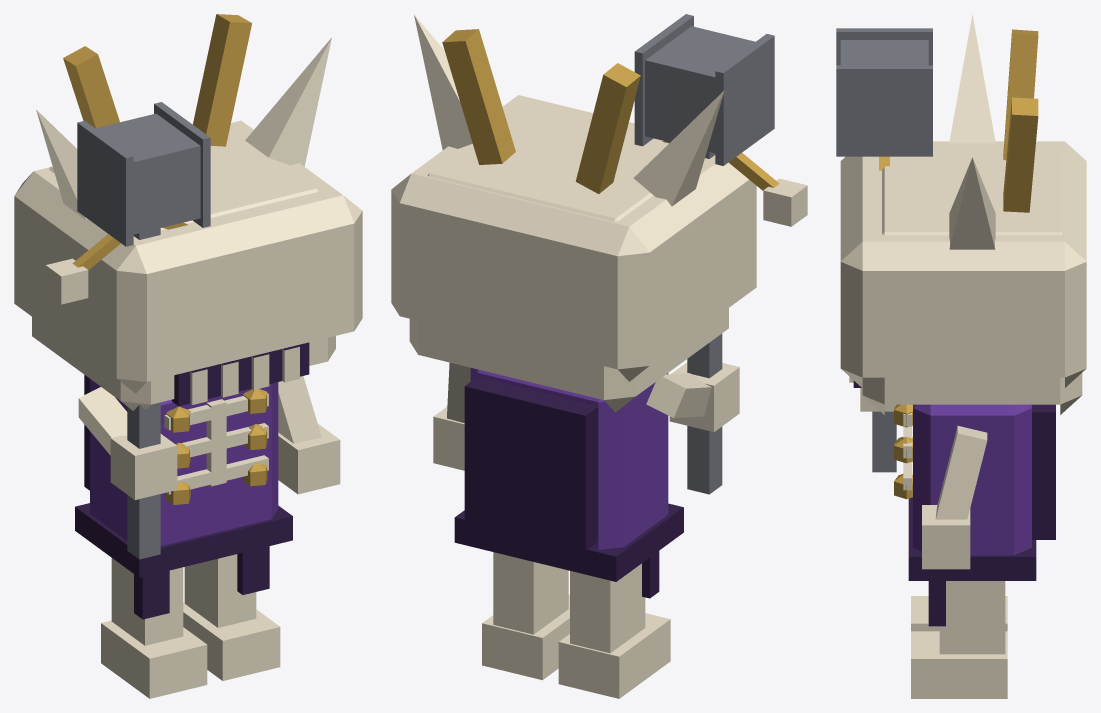
The model's file is weakener_r4.glb.
3 renders of one model, left to right at view 1: azimuth 30°, elevation 25°; view 2: azimuth 150°, elevation 25°; view 3: azimuth 270°, elevation 25°, orthographic. The views are drawn at different scales.
Parts seen in each view (by area): view 1: weakener_r4_mesh; view 2: weakener_r4_mesh; view 3: weakener_r4_mesh.
Boxes of the visible parts, <box> form: weakener_r4_mesh: <box>14,14,362,698</box>; weakener_r4_mesh: <box>391,14,807,698</box>; weakener_r4_mesh: <box>836,14,1086,698</box>.
Size of the model in its own units: 0.8901 by 1.6 by 0.6039.
1 material, 1 textured.
